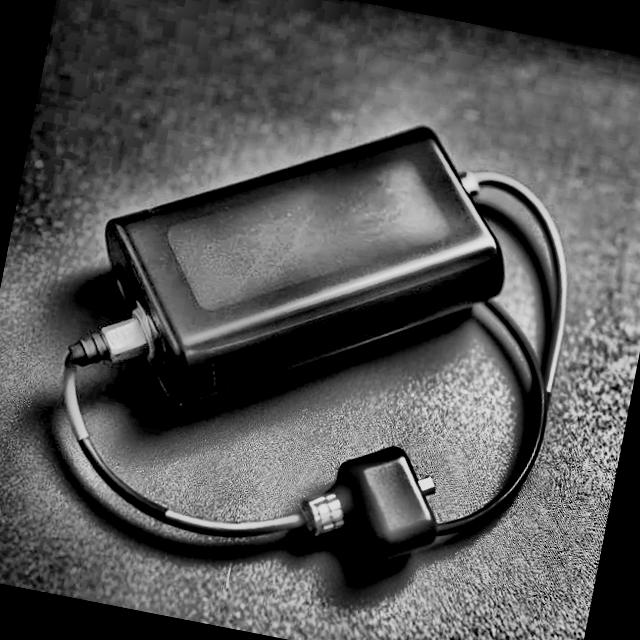Battery: (104, 126, 506, 379)
Cable: (57, 165, 566, 559)
